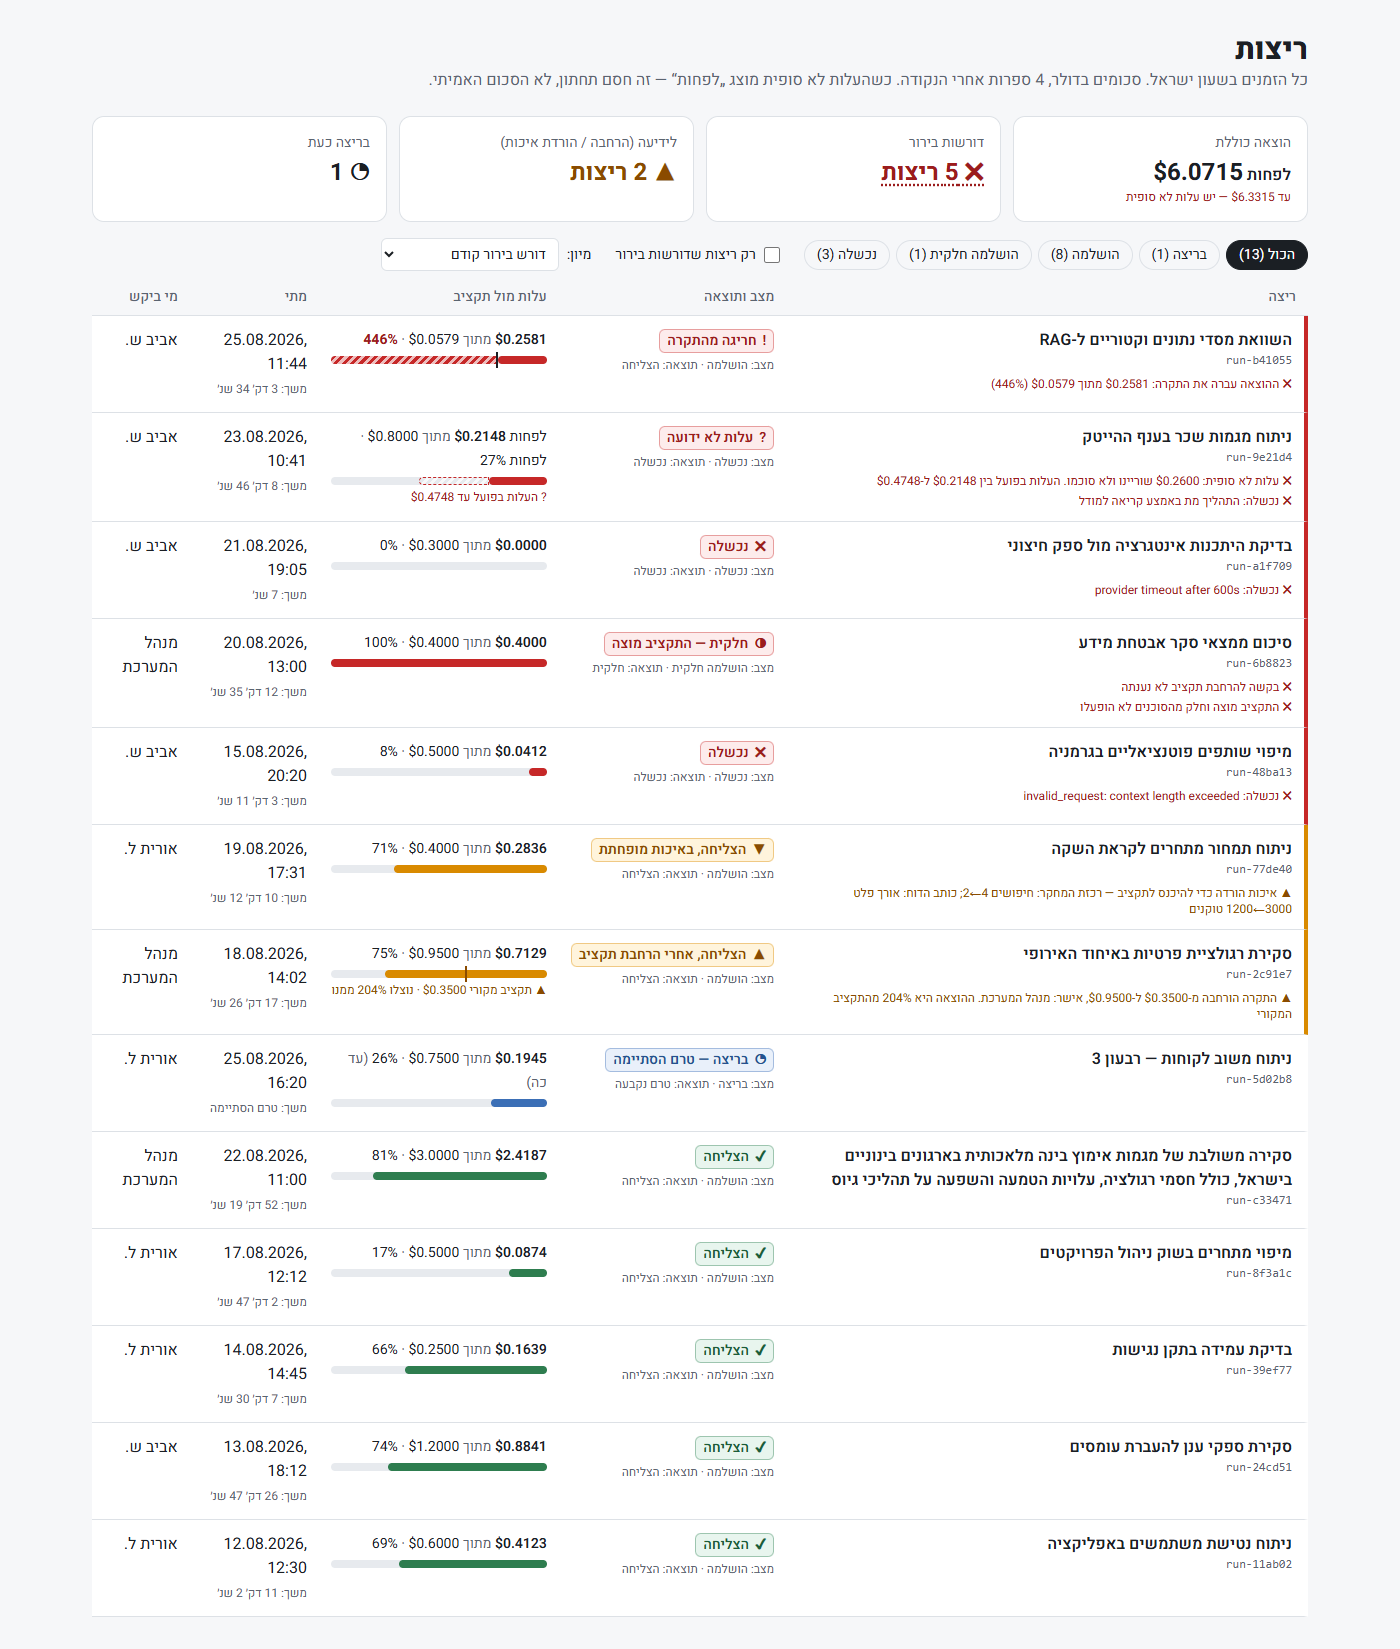

The page's visual inventory and layout, read from the dashboard file:
{"tool":"tableau","page":{"name":"סקירת ריצות","canvas":[1200,1450],"ordinal":0},"visuals":[{"type":"text","box":[24,8,1152,84]},{"type":"worksheet","title":"סיכום פעילות","mark":"Text","box":[24,96,276,104]},{"type":"worksheet","title":"סיכום לידיעה","mark":"Text","box":[316,96,276,104]},{"type":"worksheet","title":"סיכום דורש בירור","mark":"Text","box":[608,96,276,104]},{"type":"worksheet","title":"סיכום הוצאה","mark":"Text","box":[900,96,276,104]},{"type":"filter","title":"רשימת ריצות","param":"[federated.cells].[none:tone_he:nk]","box":[500,212,330,56]},{"type":"filter","title":"רשימת ריצות","param":"[federated.cells].[none:status_he:nk]","box":[846,212,330,56]},{"type":"worksheet","title":"רשימת ריצות","mark":"Text","rows":["row_order"],"cols":["col_pos","col_header"],"box":[24,276,1152,1160]}]}

Visuals, with their boxes in screenshot pixels (x1, y1, x2, y2), scaled from the page's 1200x1450 canvas onto the 1400x1649 screenshot:
text: x1=28 y1=9 x2=1372 y2=105
"סיכום פעילות" worksheet (Text marks): x1=28 y1=109 x2=350 y2=227
"סיכום לידיעה" worksheet (Text marks): x1=369 y1=109 x2=691 y2=227
"סיכום דורש בירור" worksheet (Text marks): x1=709 y1=109 x2=1031 y2=227
"סיכום הוצאה" worksheet (Text marks): x1=1050 y1=109 x2=1372 y2=227
"רשימת ריצות" filter: x1=583 y1=241 x2=968 y2=305
"רשימת ריצות" filter: x1=987 y1=241 x2=1372 y2=305
"רשימת ריצות" worksheet (Text marks): x1=28 y1=314 x2=1372 y2=1633
